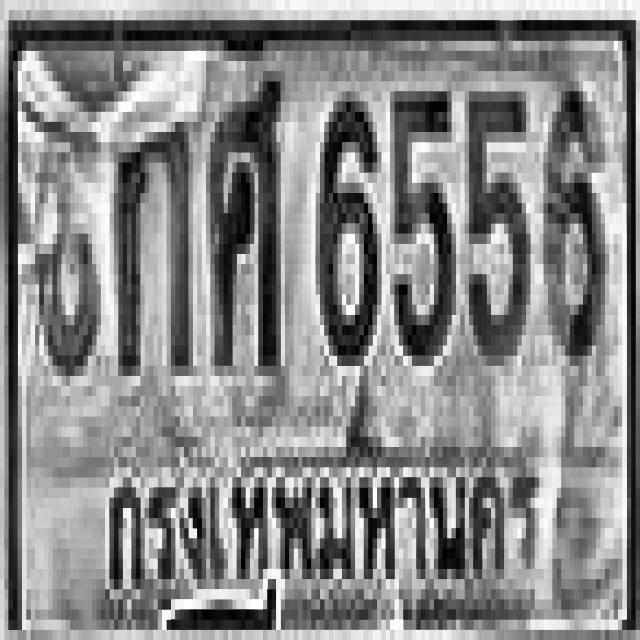license-plate: (12, 31, 634, 624)
